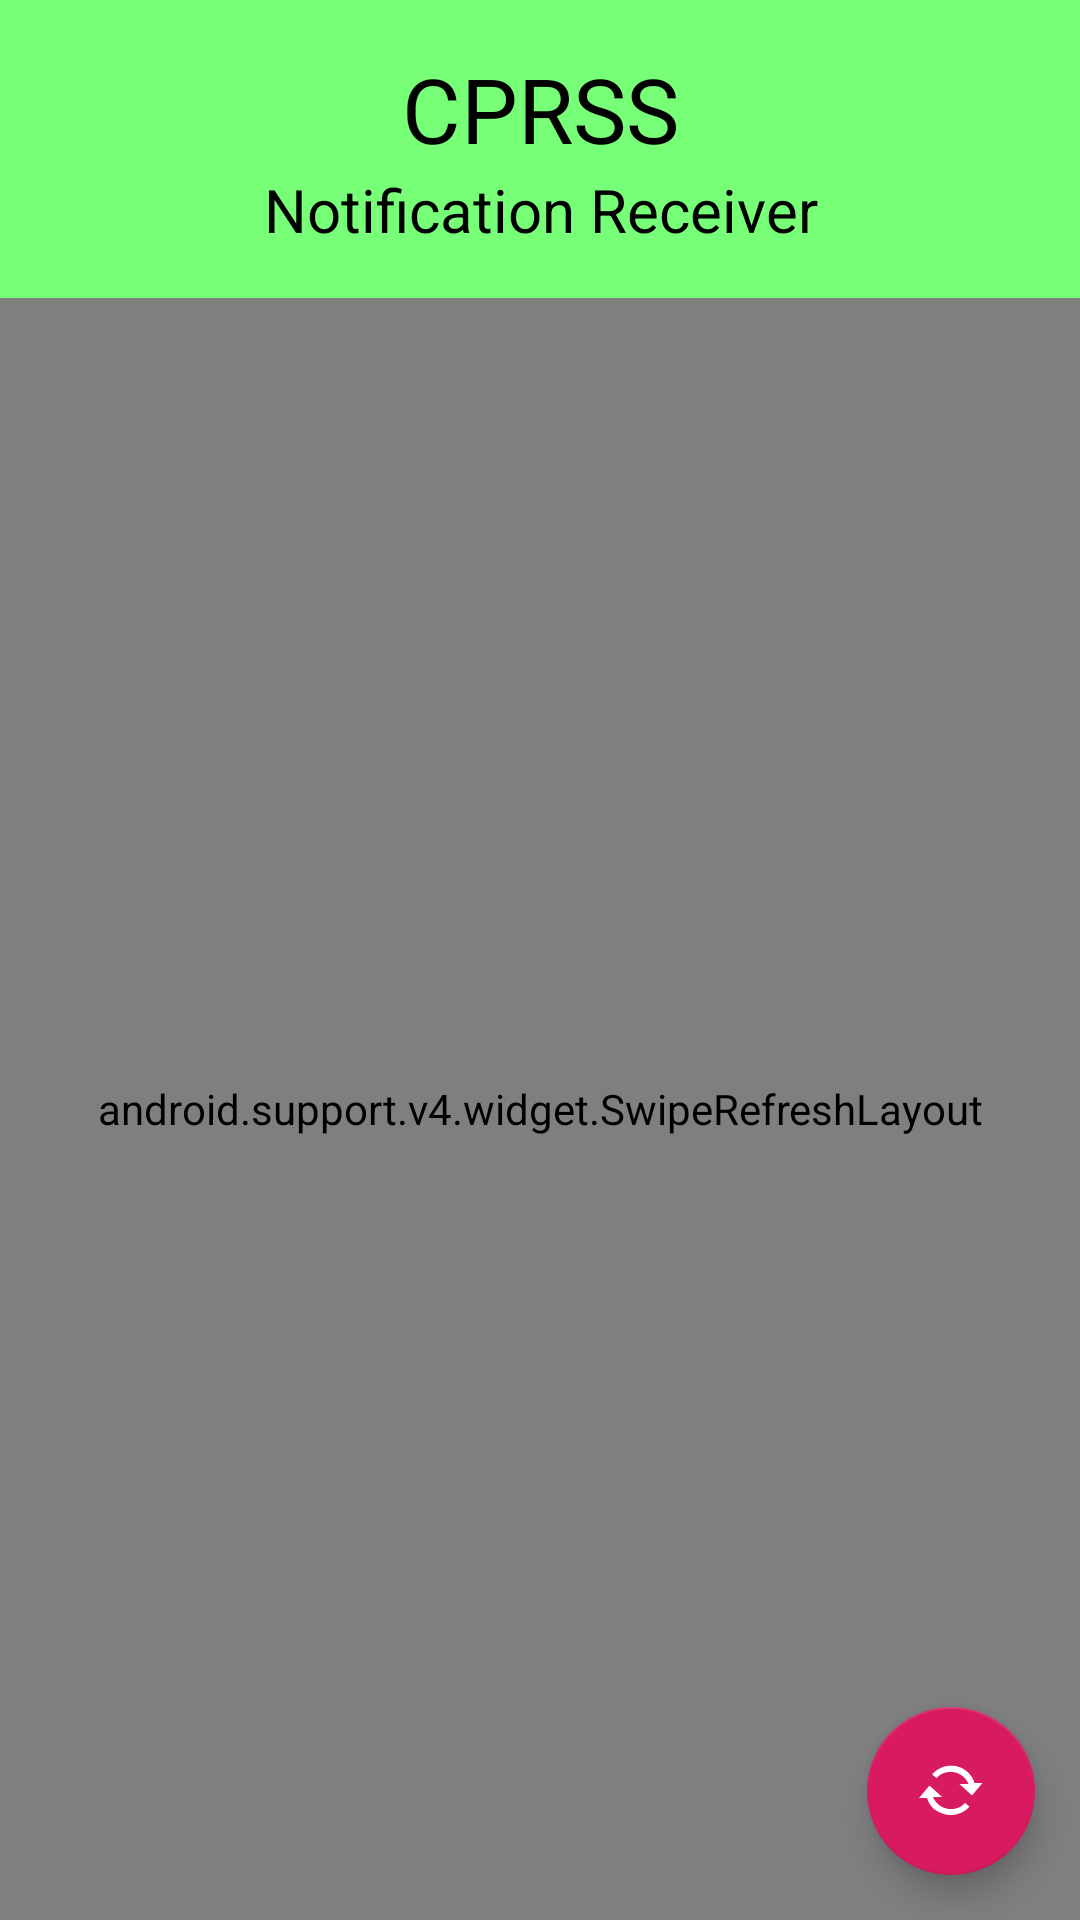

Point at icon controls on the screen. Image size 1080×1920, points as [x,y].
sync noanim: [951,1791]
